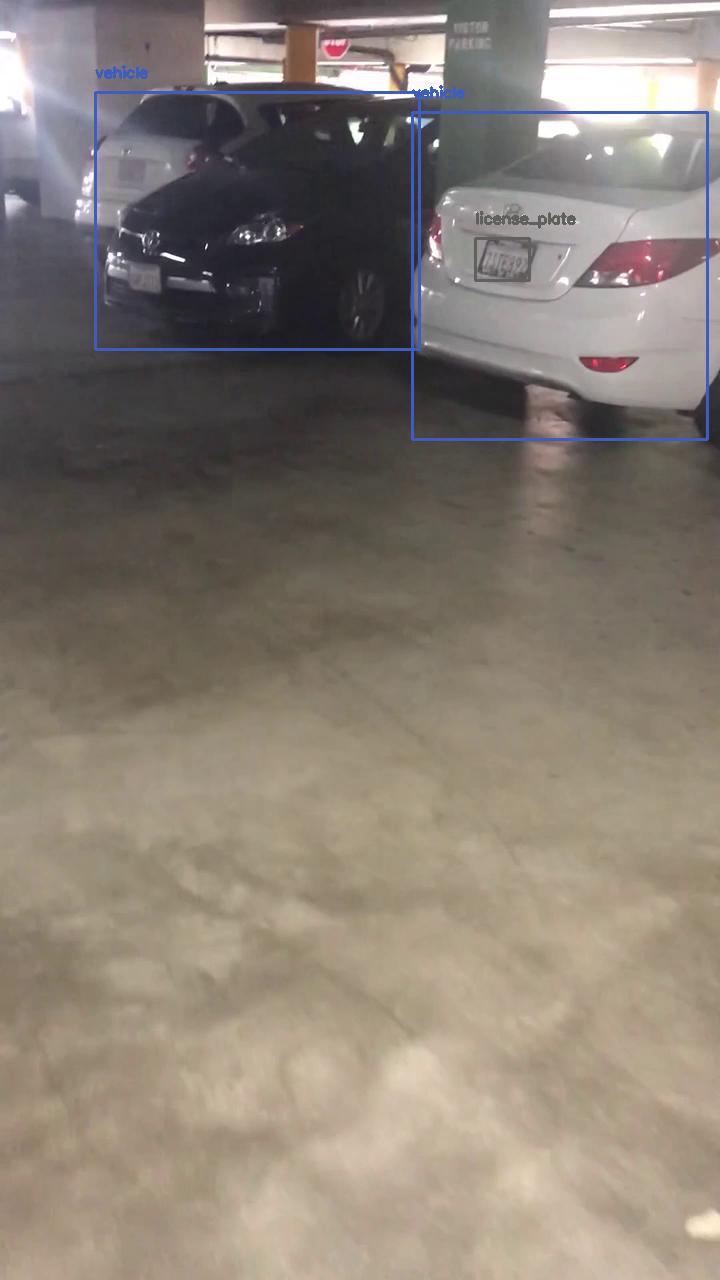license_plate: (475, 238, 529, 280)
vehicle: (412, 112, 707, 439), (95, 92, 419, 349)
